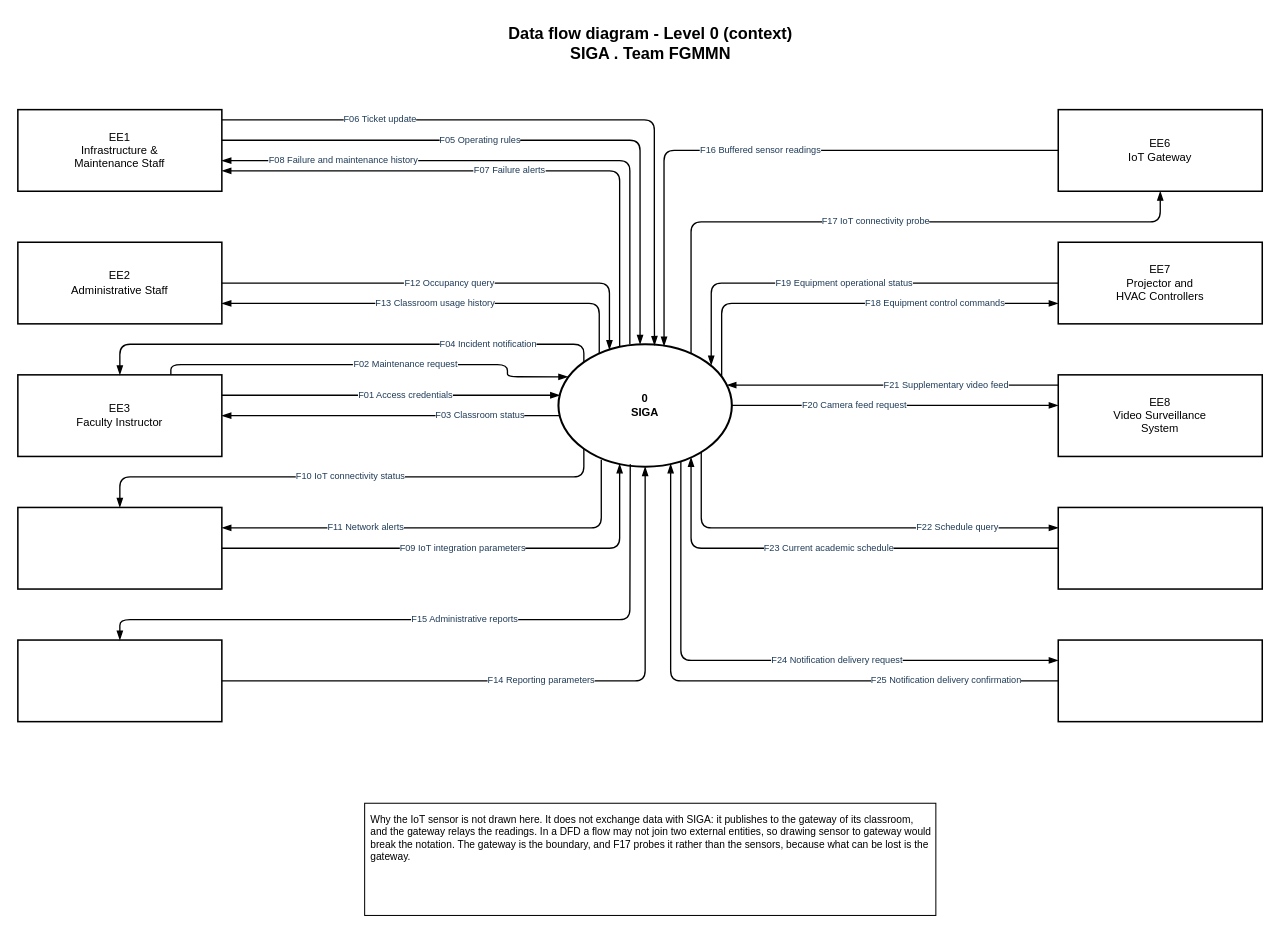
This 1281x933 diagram has some shape labels left out. The shapes that lost their labels are listed below. From the top down, each one's centre as x and y in pixels, then its label:
At pixel 119 547: "EE4 IT Staff".
At pixel 1160 547: "EE9 Academic Schedule System".
At pixel 119 680: "EE5 Faculty Authorities".
At pixel 1160 680: "EE10 Notification Service".
